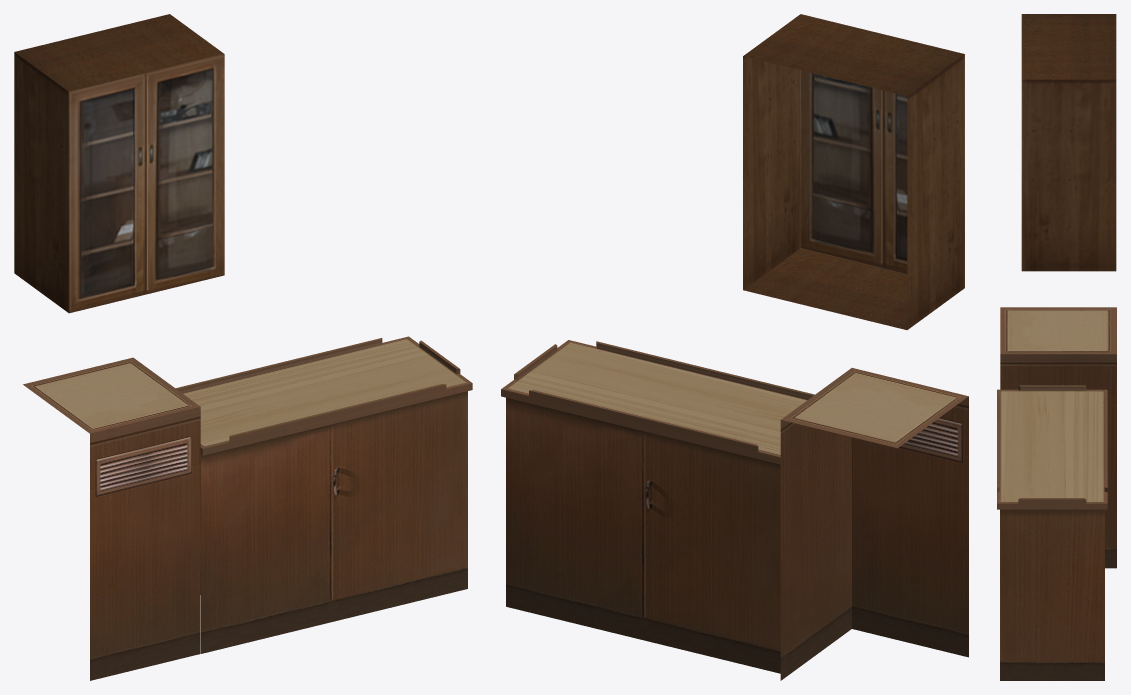
File: Furniture01.FBX
3 renders of one model, left to right at view 1: azimuth 30°, elevation 25°; view 2: azimuth 150°, elevation 25°; view 3: azimuth 270°, elevation 25°, orthographic. The views are drawn at different scales.
Parts seen in each view (by area): view 1: Furniture01; view 2: Furniture01; view 3: Furniture01.
Boxes of the visible parts, <box> form: Furniture01: <box>14,14,472,680</box>; Furniture01: <box>501,14,968,680</box>; Furniture01: <box>997,14,1116,680</box>.
Bounding box in the file's own units: 1.52 × 2.16 × 0.4664.
